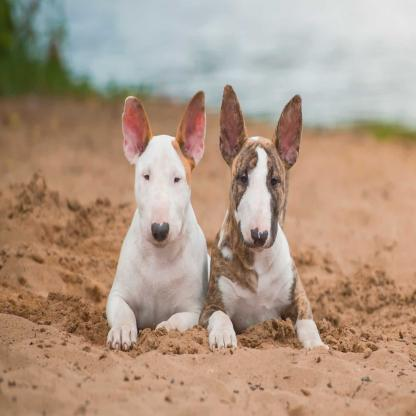Bull Terrier: (204, 70, 335, 354), (104, 77, 211, 364)
